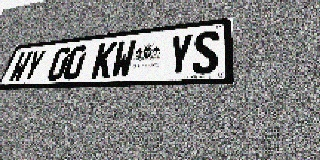0: (61, 45, 88, 80), (45, 47, 72, 81)
K: (90, 41, 118, 79)
S: (192, 30, 219, 75)
W: (109, 39, 137, 78), (7, 51, 33, 83)
Y: (166, 33, 194, 76), (20, 49, 47, 82)
